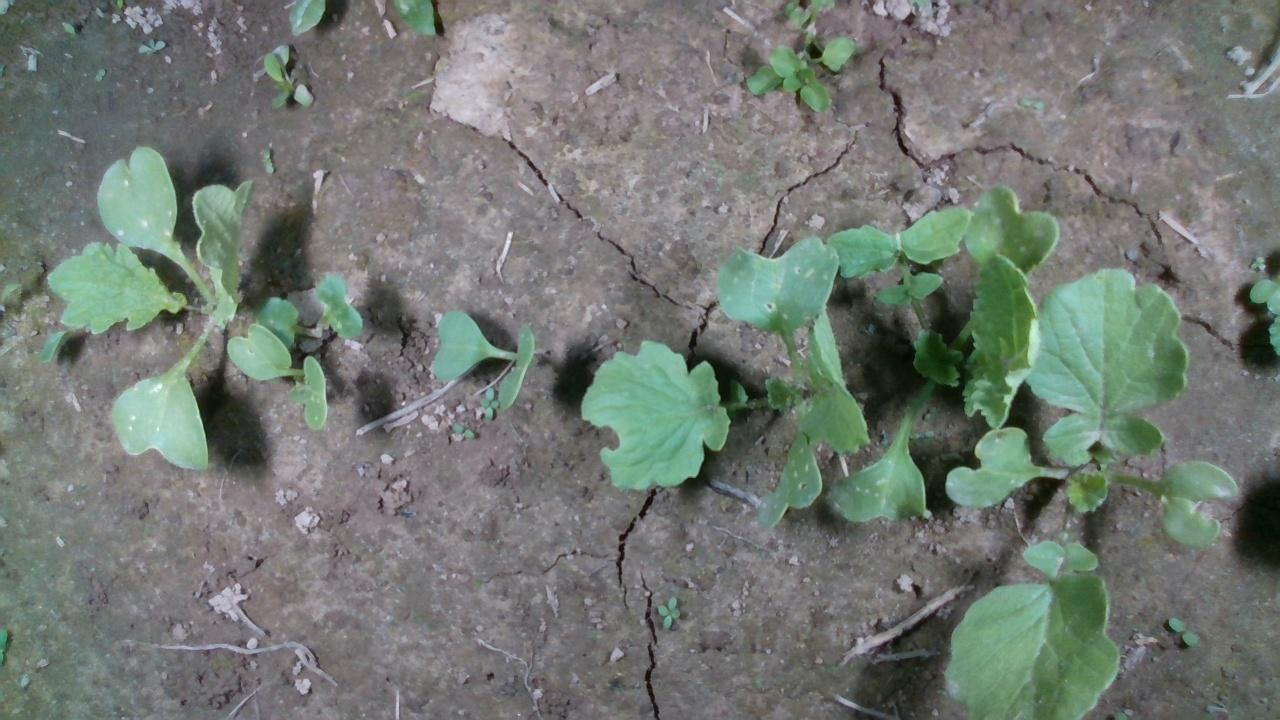weed: (1166, 615, 1200, 648), (653, 594, 680, 629), (135, 34, 165, 54), (450, 419, 475, 439), (93, 65, 106, 83)
